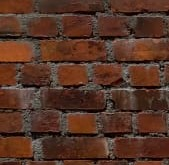brick: (39, 40, 108, 62), (40, 137, 109, 159), (111, 39, 169, 63), (41, 89, 107, 108), (111, 89, 169, 110), (113, 137, 168, 158), (101, 110, 134, 135), (1, 137, 36, 160), (40, 1, 107, 13), (65, 113, 99, 136), (1, 41, 36, 63), (135, 111, 169, 133), (111, 1, 168, 14), (1, 88, 36, 109), (20, 64, 53, 86), (97, 15, 131, 36), (57, 63, 89, 85), (92, 64, 125, 85), (63, 15, 93, 37), (134, 16, 164, 37), (31, 112, 61, 133), (130, 65, 161, 85), (29, 16, 58, 36), (1, 15, 25, 37), (1, 112, 26, 133), (1, 1, 35, 13), (1, 64, 18, 87)
